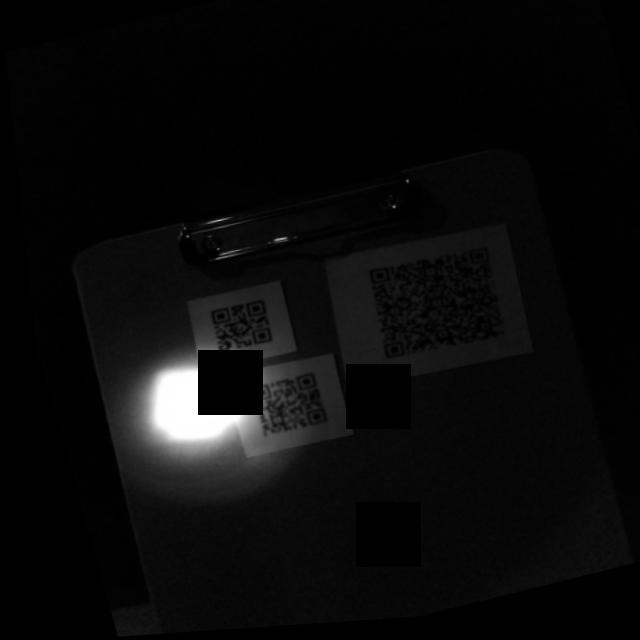QR_CODE: (343, 230, 517, 384), (227, 360, 334, 452), (183, 287, 281, 367)
